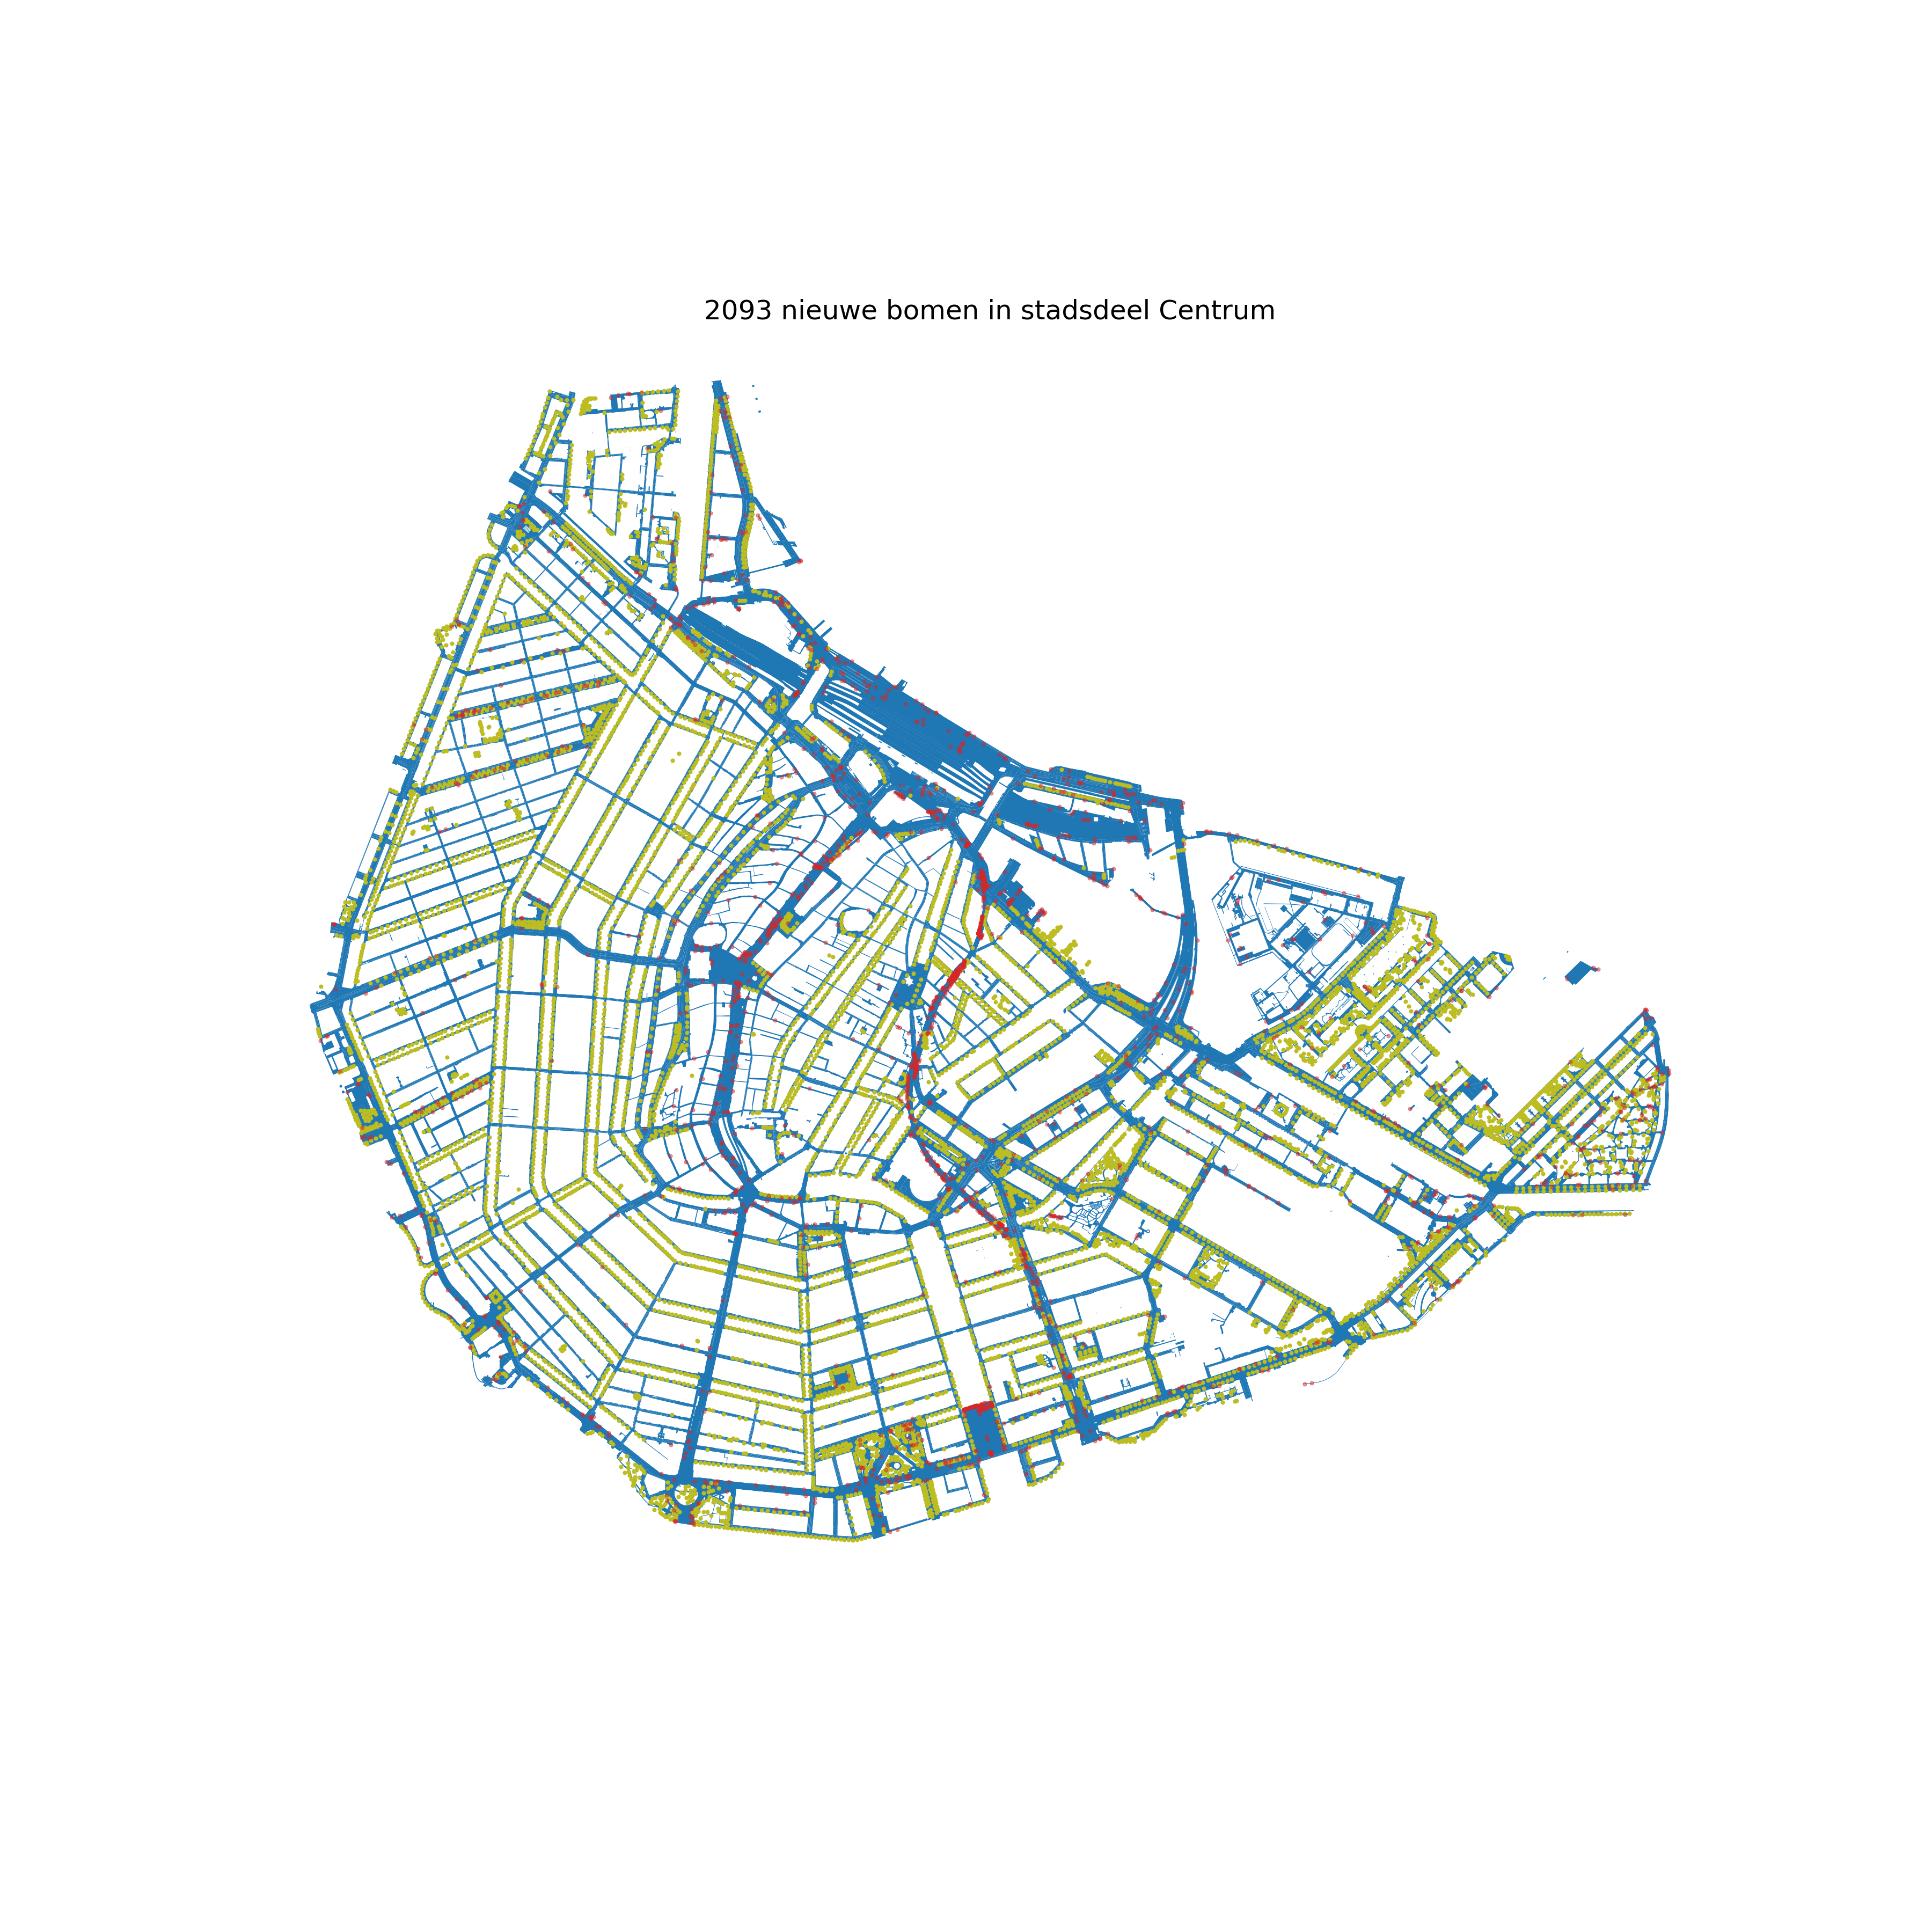

Layout of this report page (visuals, bound fields, positions):
{"tool":"tableau","page":{"name":"Dashboard 1","canvas":[1000,1000],"units":"permille","ordinal":0},"visuals":[{"type":"worksheet","title":"pt","mark":"Line","rows":["0"],"cols":["tiny_forest_area"],"box":[10,14.6,980,970.9]},{"type":"legend","title":"pt","param":"[federated.0cbgzb50fwx32t0zqqtpc04w2hoo].[none:Calculation_1052153505004306432:n","box":[810.5,71,139.7,306]}]}

Visuals, with their boxes on the dashboard's canvas, which has no fixed pixel size, in thousandths of its width and height (x1, y1, x2, y2). These are canvas units, not pixel positions in the 1932x1932 screenshot, which may show the page scaled, cropped or inside an application window:
"pt" worksheet (Line marks): x1=10, y1=15, x2=990, y2=986
"pt" legend: x1=810, y1=71, x2=950, y2=377
